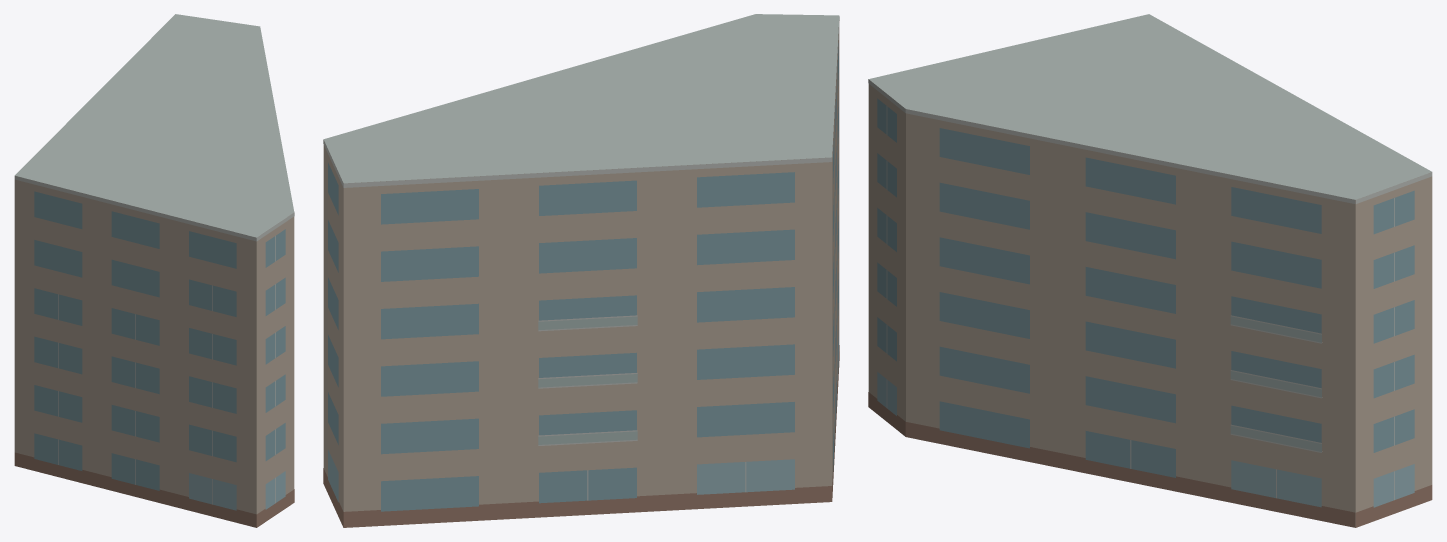
The model's file is survey-upis-32667754.glb.
3 views of the same model, side by side, from view 1: azimuth 30°, elevation 25°; view 2: azimuth 150°, elevation 25°; view 3: azimuth 270°, elevation 25° (orthographic). The views are drawn at different scales.
Visible parts, largest first — view 1: survey-upis-32667754.tmp; view 2: survey-upis-32667754.tmp; view 3: survey-upis-32667754.tmp.
Boxes of the visible parts, x1,y1,x2,y2 form: survey-upis-32667754.tmp: (14,14,294,527); survey-upis-32667754.tmp: (323,14,839,527); survey-upis-32667754.tmp: (868,14,1432,527).
Bounding box in the file's own units: 22.25 × 18.3 × 28.52.
